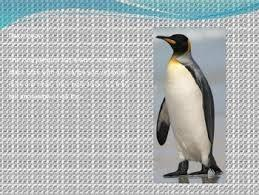king: (148, 30, 228, 186)
